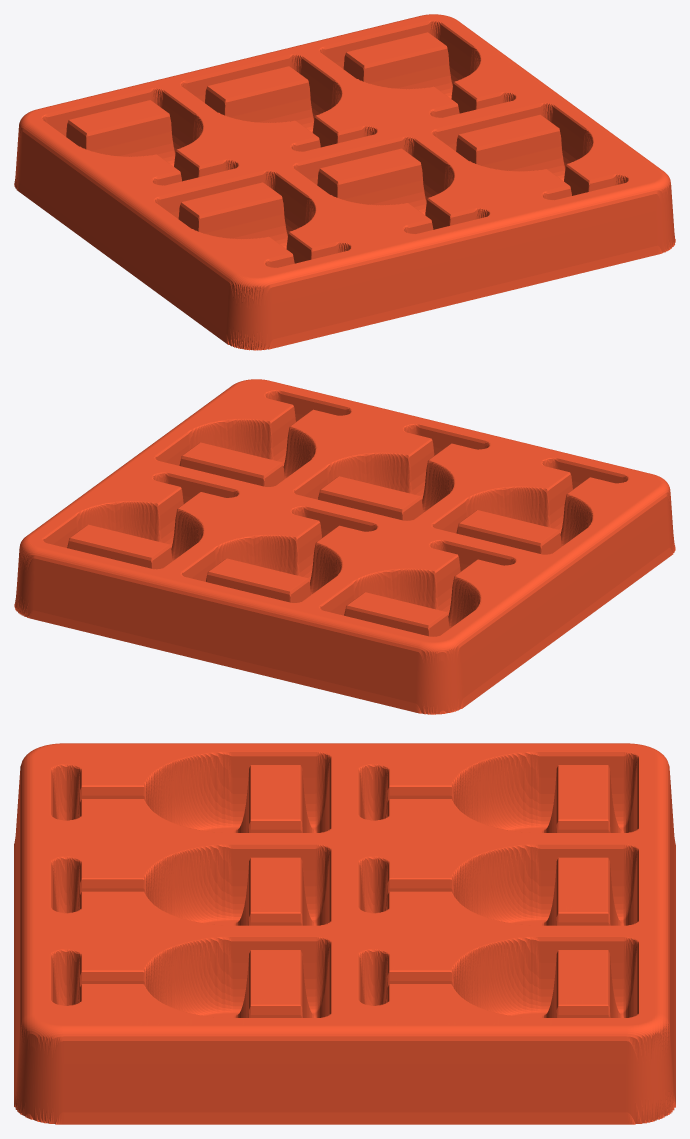
Rendered from mold.glb.
The picture shows the model from 3 angles, top to bottom: view 1: azimuth 30°, elevation 25°; view 2: azimuth 150°, elevation 25°; view 3: azimuth 270°, elevation 25°; orthographic projection. The views are drawn at different scales.
Visible parts, largest first — view 1: geometry_0; view 2: geometry_0; view 3: geometry_0.
Part boxes in pixels (x1,y1,x2,y2): geometry_0: (14,14,675,350); geometry_0: (14,379,675,714); geometry_0: (14,743,675,1124).
Size of the model in its own units: 0.13 by 0.0185 by 0.1222.
